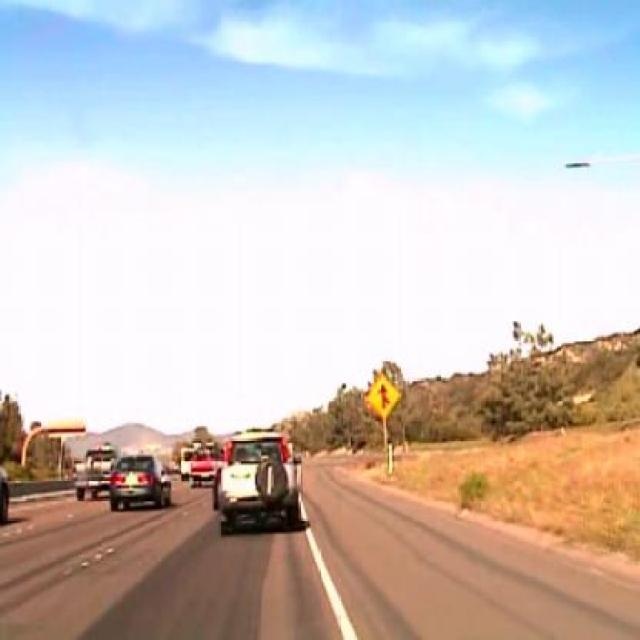merge: (366, 372, 401, 420)
